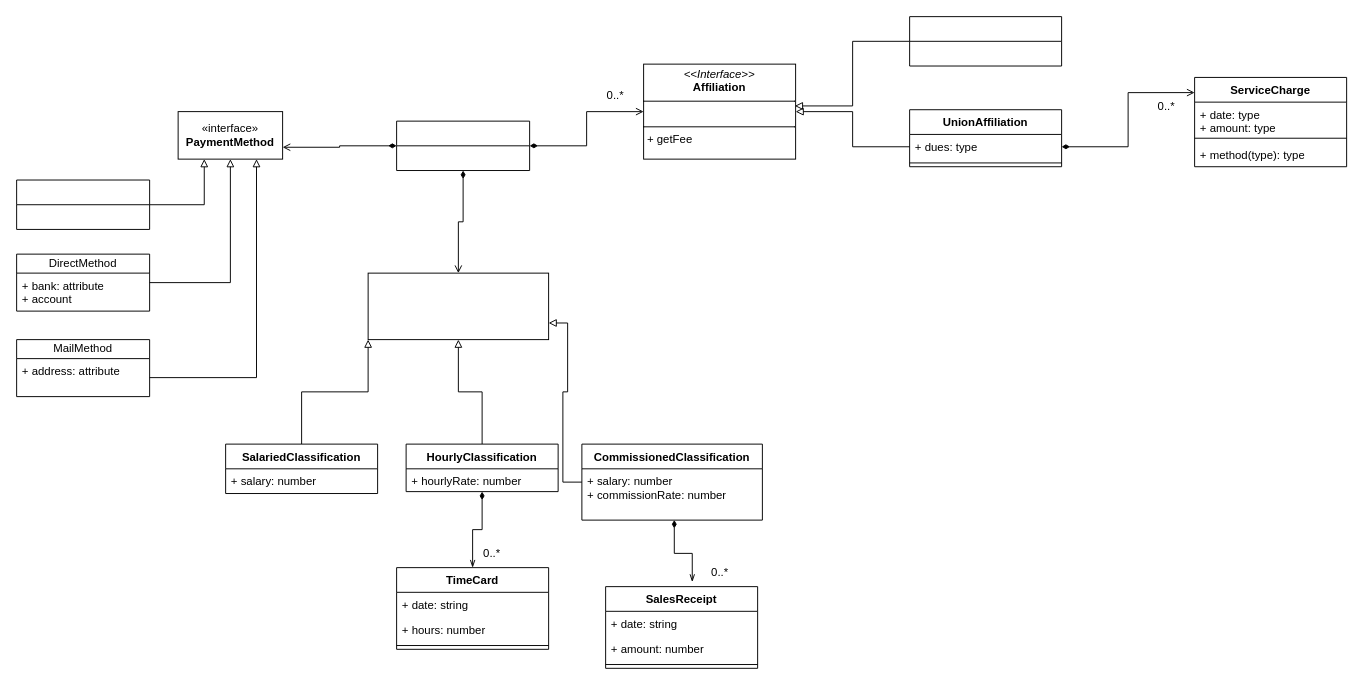
Image size: 1363x685. Some labels were removed from this diagram. Each missing label, with the centre of its shape:
<<Interface>> PaymentClassification + calculatePay(Type): void: (458,306)
Employee: (463,145)
HoldMethod: (83,204)
NoAffiliation: (985,41)
